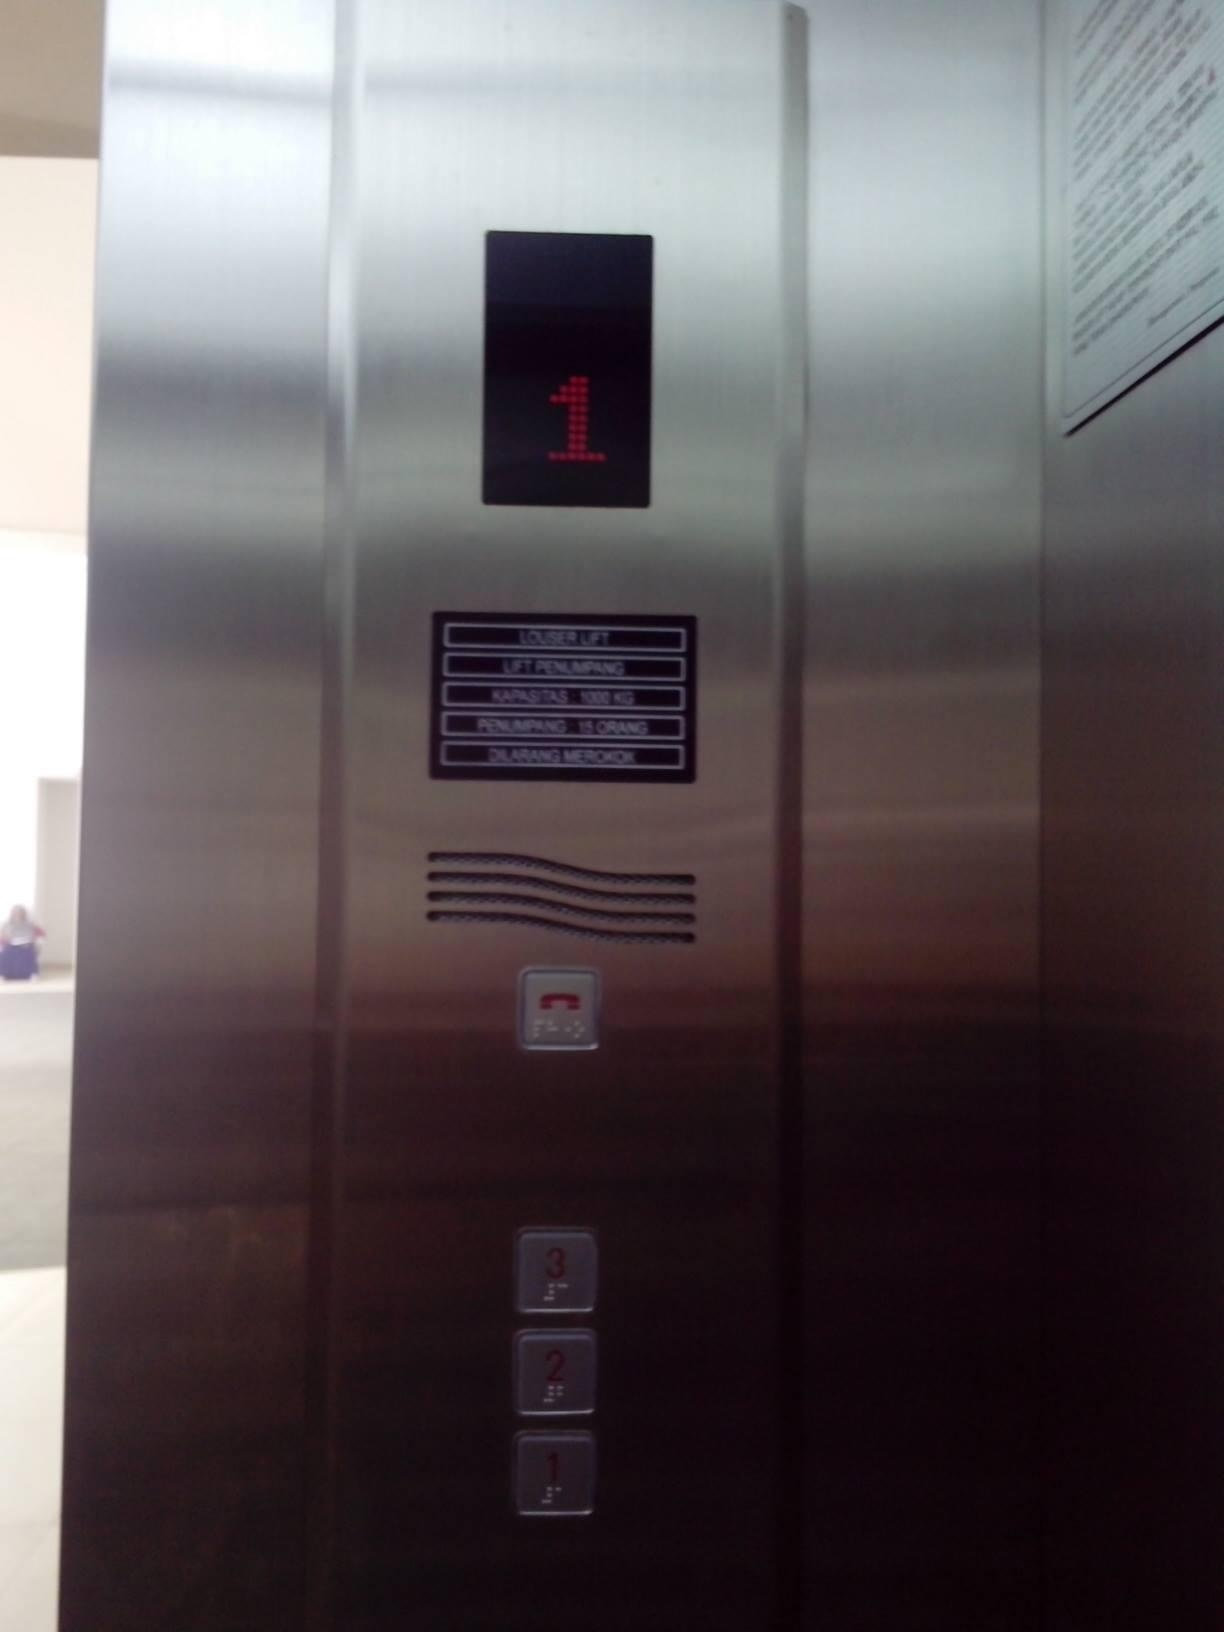1: (507, 1425, 597, 1515)
2: (508, 1327, 597, 1417)
3: (510, 1227, 597, 1317)
call: (514, 964, 604, 1055)
led: (483, 229, 652, 509)
